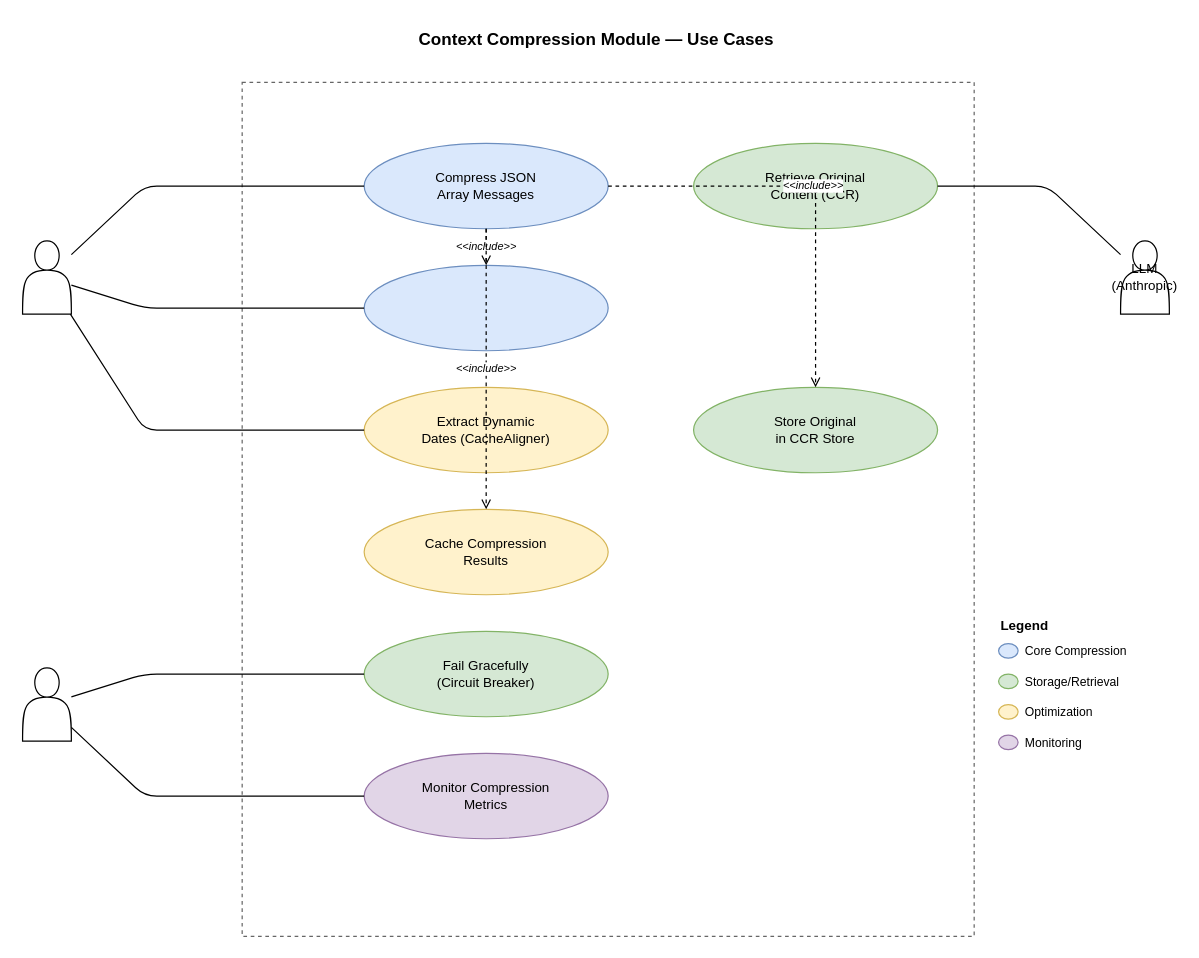
Some shapes in this 1199 by 958 pixel diagram are drawn without their labels. Here are the shapes that lost their labels. From the top down, the box of each, then its label:
(21, 240, 71, 314): AI Agent
(363, 264, 608, 351): Detect Content Type
(241, 81, 974, 936): Context Compression Module
(21, 667, 71, 741): Operator
